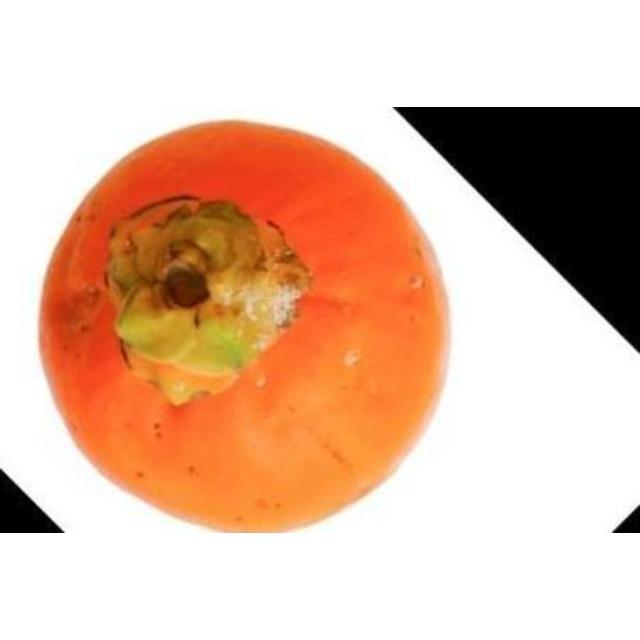good: (31, 120, 458, 532)
